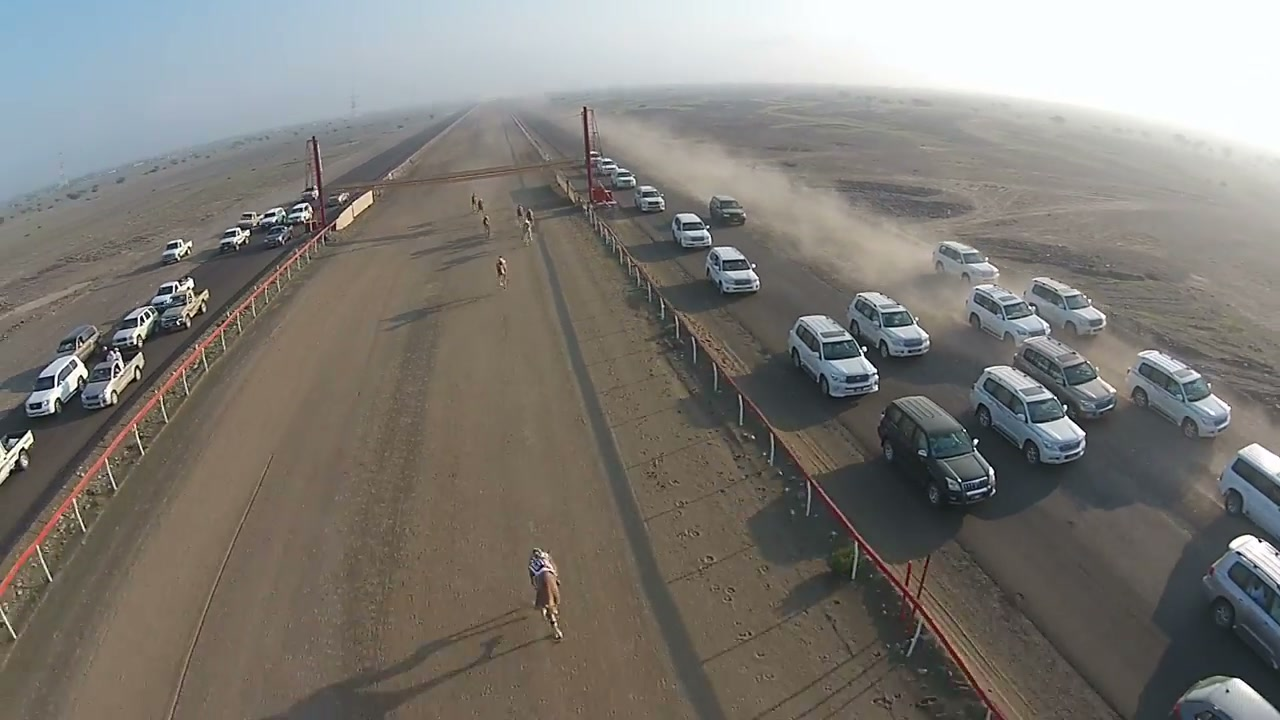animal_footprint: (590, 366, 806, 719)
